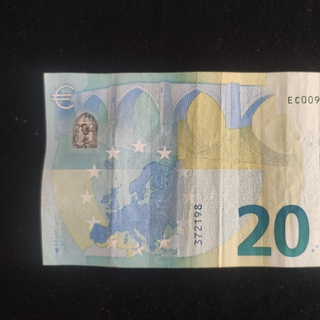20EUROBack: (40, 70, 320, 268)
